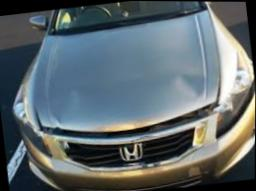Bonnet: (25, 6, 219, 139)
Bumper: (19, 76, 255, 191)
